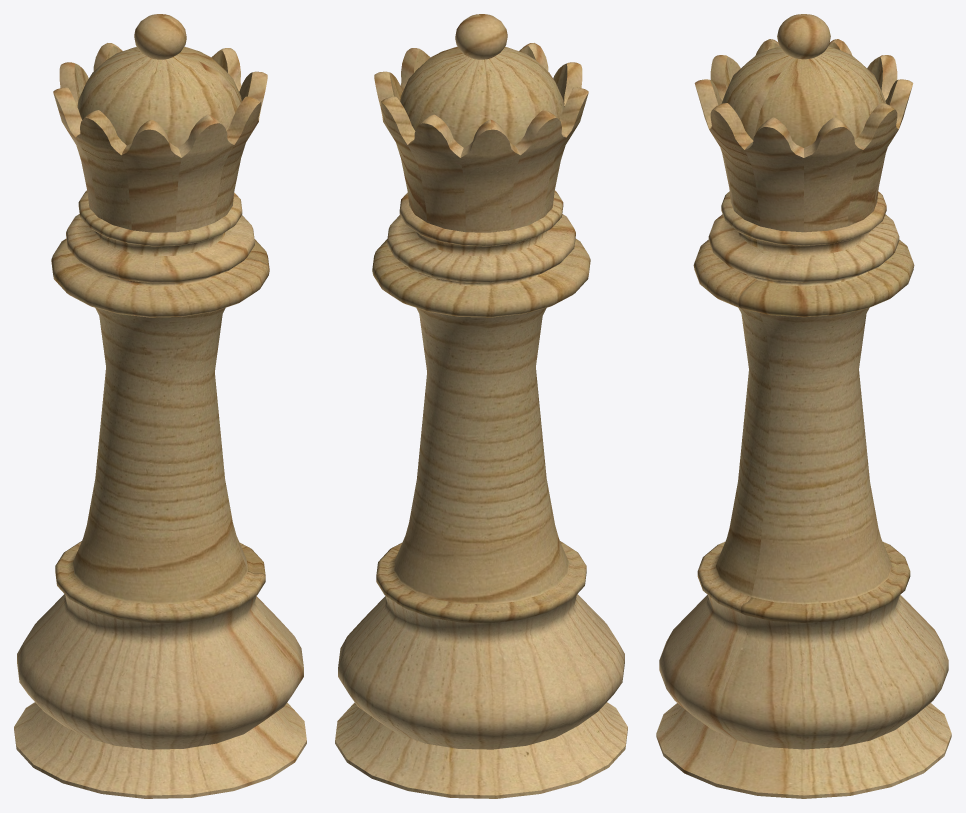
The model's file is White_Queen.dae.
3 views of the same model, side by side, from view 1: azimuth 30°, elevation 25°; view 2: azimuth 150°, elevation 25°; view 3: azimuth 270°, elevation 25° (orthographic).
Parts seen in each view (by area): view 1: Queen; view 2: Queen; view 3: Queen.
Boxes of the visible parts, left/top/right/bottom form: Queen: left=14, top=14, right=306, bottom=798; Queen: left=335, top=14, right=627, bottom=798; Queen: left=656, top=14, right=951, bottom=798.
Bounding box in the file's own units: 1.83 × 4.94 × 1.84.
1 material, 1 textured.
